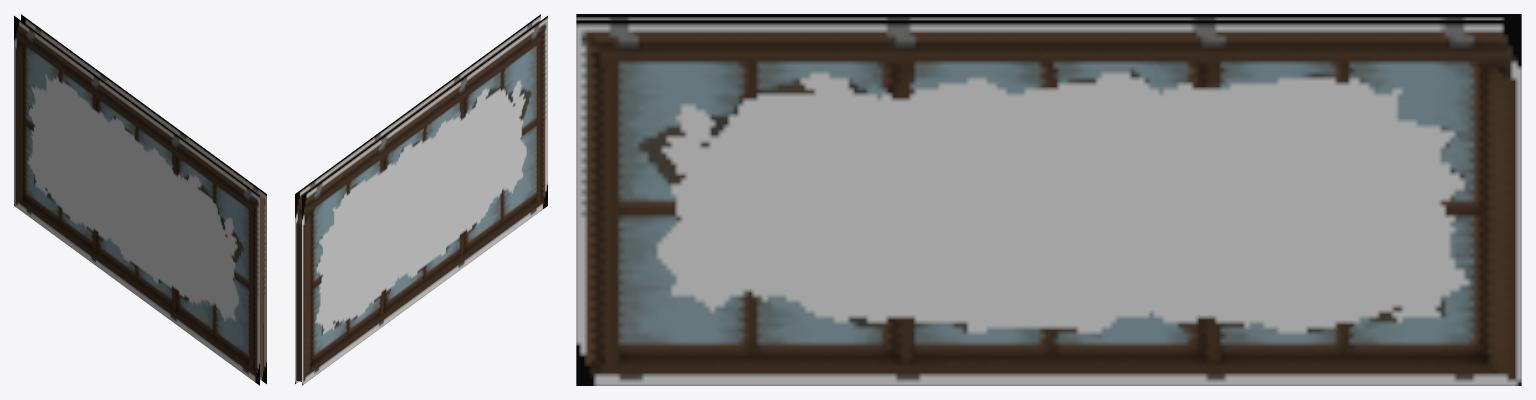
File: pz_native_fixtures_windows_wood_70_frame.obj
3 renders of one model, left to right at view 1: azimuth 30°, elevation 25°; view 2: azimuth 150°, elevation 25°; view 3: azimuth 270°, elevation 25°, orthographic. The views are drawn at different scales.
Visible parts, largest first — view 1: pz_native_fixtures_windows_wood_70_frame; view 2: pz_native_fixtures_windows_wood_70_frame; view 3: pz_native_fixtures_windows_wood_70_frame.
Part boxes in pixels (<box>): pz_native_fixtures_windows_wood_70_frame: <box>14,14,266,385</box>; pz_native_fixtures_windows_wood_70_frame: <box>295,14,547,385</box>; pz_native_fixtures_windows_wood_70_frame: <box>576,14,1521,385</box>.
Size of the model in its own units: 0.04 by 1.08 by 2.53.
Materials: 1 (1 with a texture image).
